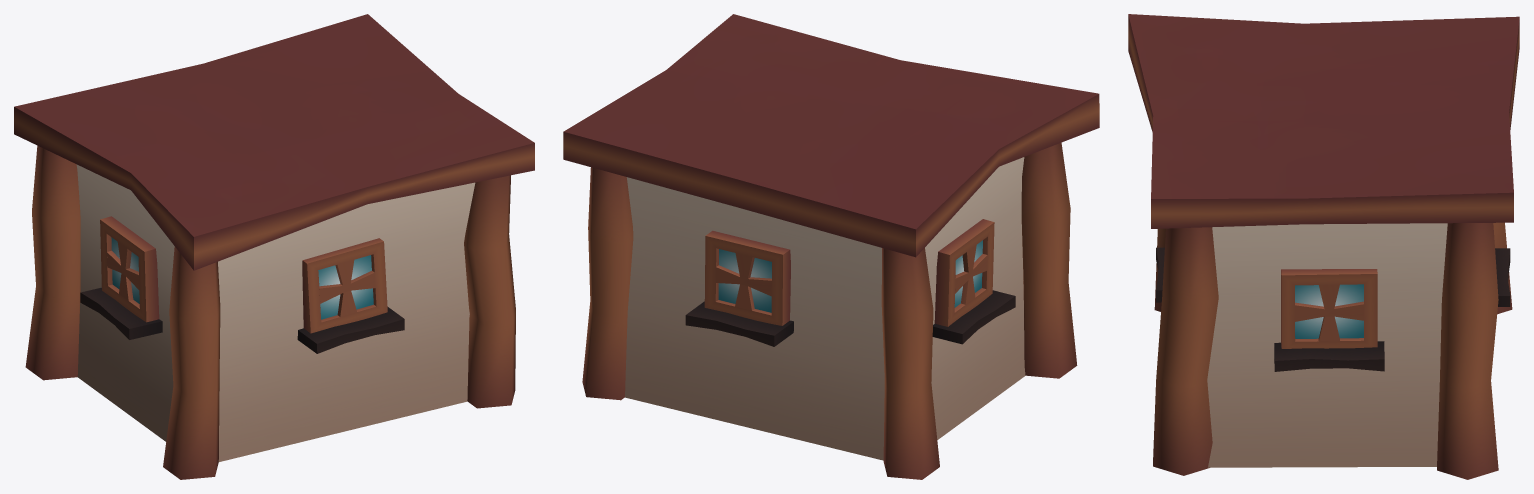
The model's file is FloorB03.fbx.
The picture shows the model from 3 angles, left to right: view 1: azimuth 30°, elevation 25°; view 2: azimuth 150°, elevation 25°; view 3: azimuth 270°, elevation 25°; orthographic projection. The views are drawn at different scales.
Visible parts, largest first — view 1: FloorB03; view 2: FloorB03; view 3: FloorB03.
Part boxes in pixels (<box>): FloorB03: <box>14,14,534,479</box>; FloorB03: <box>563,14,1099,479</box>; FloorB03: <box>1128,14,1519,479</box>.
Size of the model in its own units: 471 by 334 by 414.
Materials: 1 (1 with a texture image).
